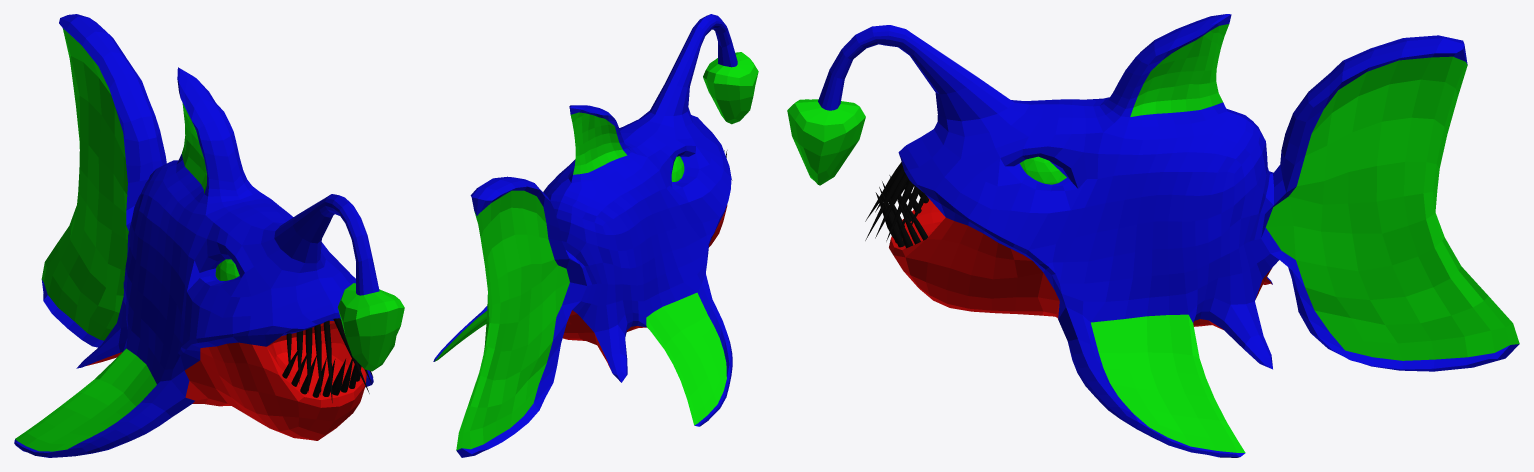
File: Anglerfish.fbx
3 views of the same model, side by side, from view 1: azimuth 30°, elevation 25°; view 2: azimuth 150°, elevation 25°; view 3: azimuth 270°, elevation 25° (orthographic). The views are drawn at different scales.
Visible parts, largest first — view 1: Cube.000; view 2: Cube.000; view 3: Cube.000.
Part boxes in pixels (x1=…): Cube.000: x1=14, y1=14, x2=404, y2=457; Cube.000: x1=433, y1=14, x2=758, y2=457; Cube.000: x1=787, y1=14, x2=1519, y2=457.
Bounding box in the file's own units: 4.01 × 4.05 × 7.44.
